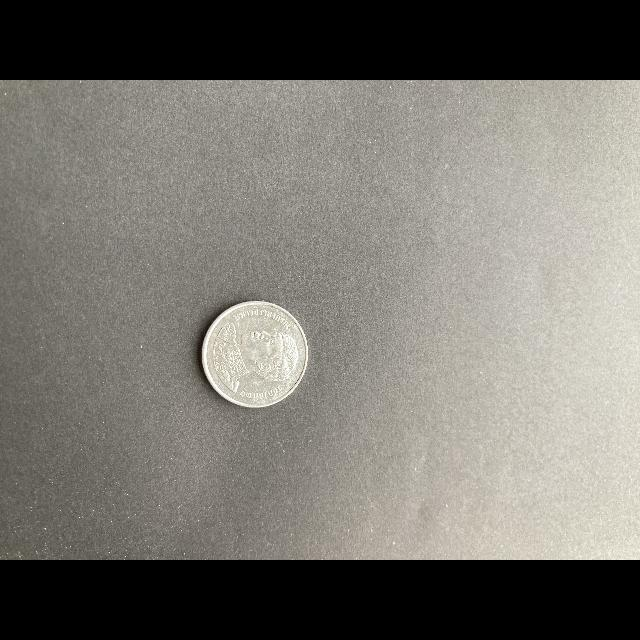1 Bath: (199, 299, 313, 412)
